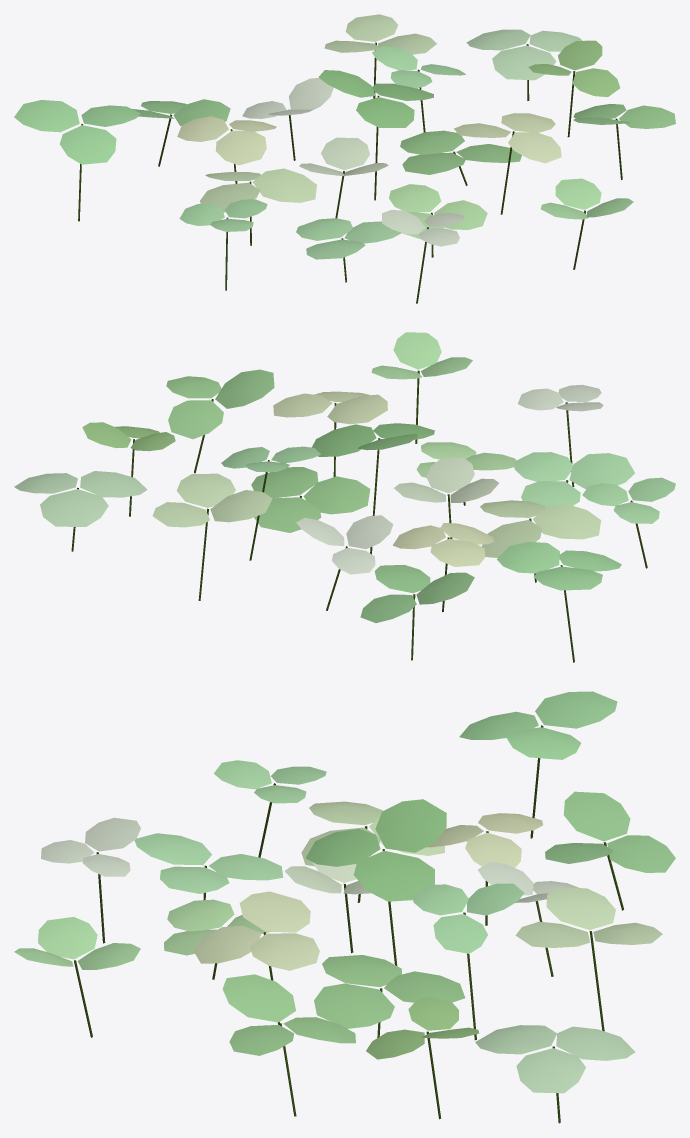
The model's file is CloverClump_v02_Edge.fbx.
3 views of the same model, one above another, from view 1: azimuth 30°, elevation 25°; view 2: azimuth 150°, elevation 25°; view 3: azimuth 270°, elevation 25° (orthographic). The views are drawn at different scales.
Visible parts, largest first — view 1: CloverClump_v02_Edge; view 2: CloverClump_v02_Edge; view 3: CloverClump_v02_Edge.
Part boxes in pixels (x1,y1,x2,y2): CloverClump_v02_Edge: (14, 14, 675, 303); CloverClump_v02_Edge: (14, 332, 675, 662); CloverClump_v02_Edge: (14, 691, 675, 1123).
Size of the model in its own units: 109 by 23.94 by 89.09.
